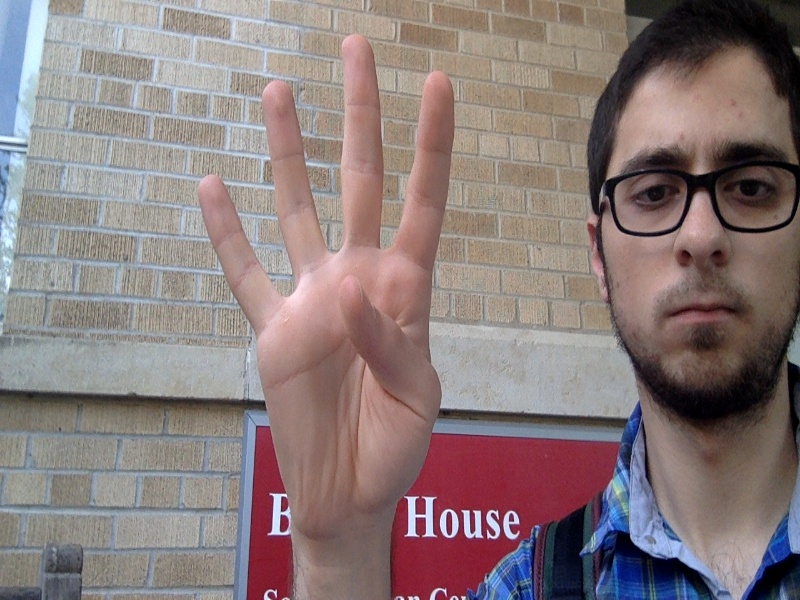4-hand: (190, 30, 453, 549)
